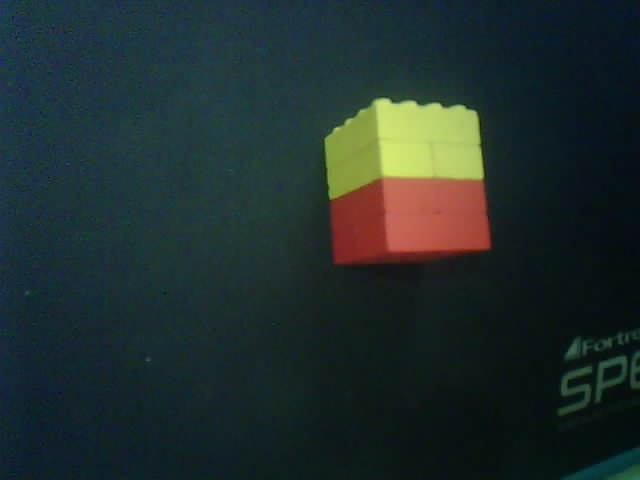lego: (323, 97, 492, 267)
